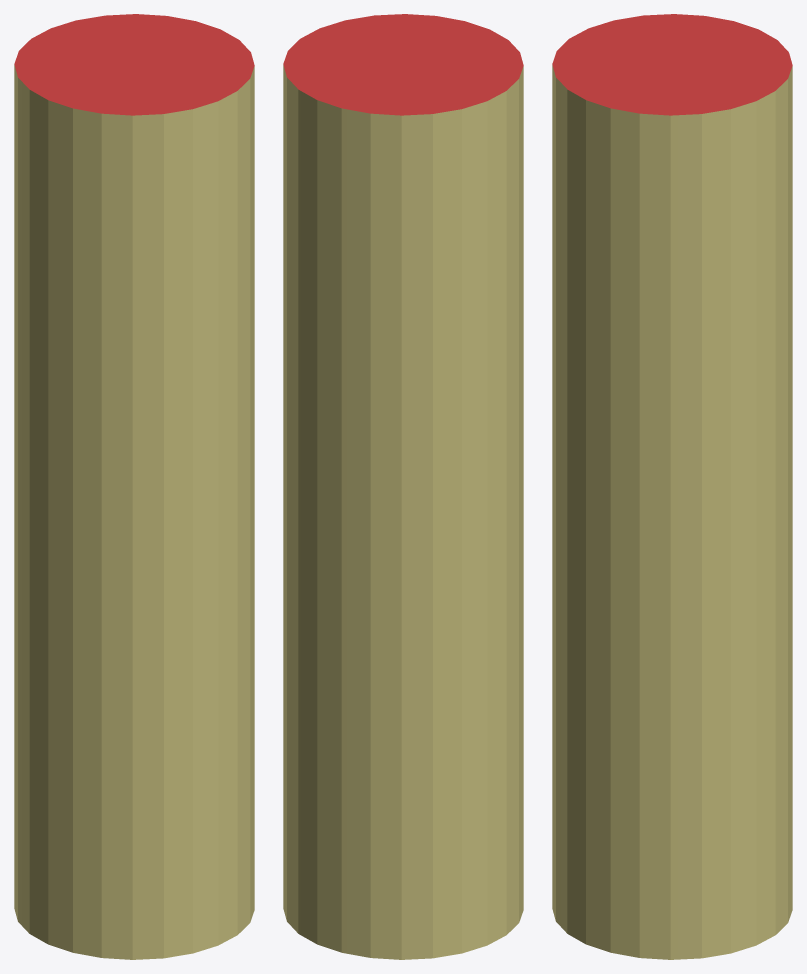
3 views of the same model, side by side, from view 1: azimuth 30°, elevation 25°; view 2: azimuth 150°, elevation 25°; view 3: azimuth 270°, elevation 25° (orthographic).
Bounding box in the file's own units: 2.47 × 2.47 × 9.56.
